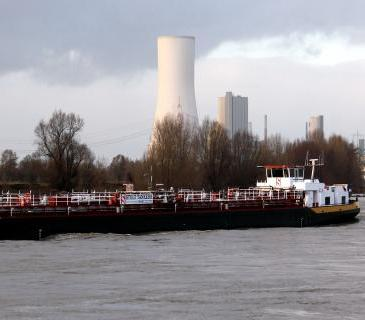Ship: (0, 118, 365, 251)
